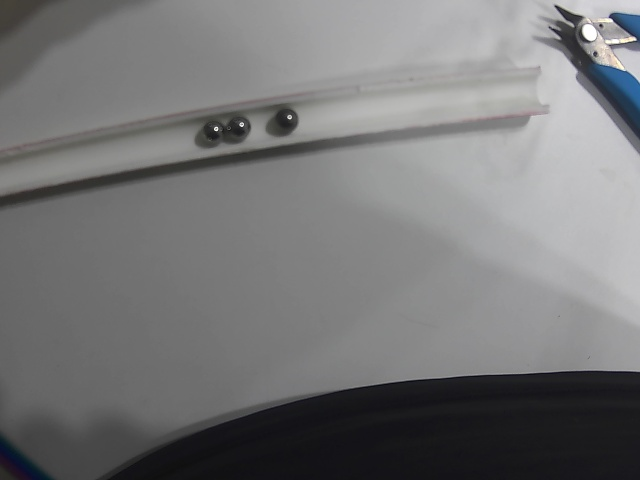steelball: (226, 117, 252, 143), (273, 108, 299, 133), (201, 121, 223, 147)
